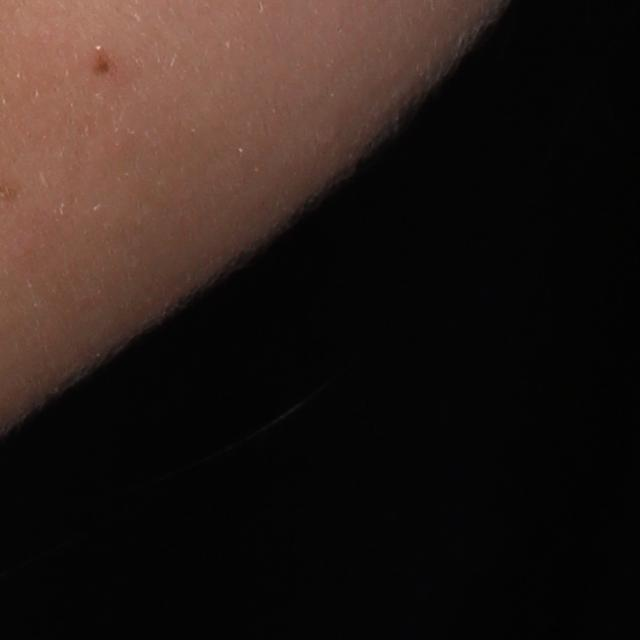nevus: (89, 54, 116, 79)
